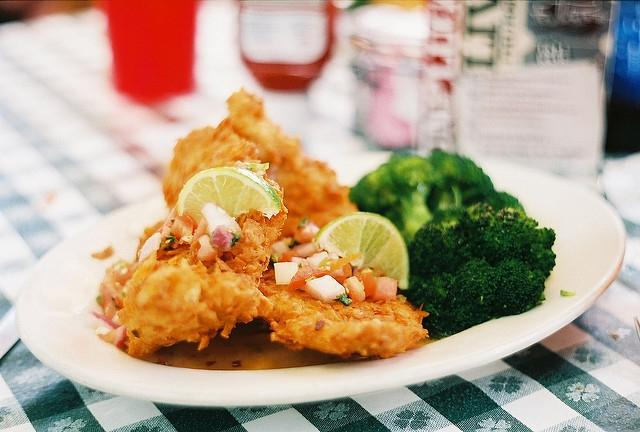broccoli: (396, 203, 556, 340), (348, 152, 446, 244), (427, 148, 494, 214), (482, 192, 525, 213)
lime: (312, 213, 410, 289), (176, 167, 281, 225)
onion: (303, 275, 346, 304), (92, 310, 126, 346), (202, 203, 241, 233), (139, 232, 162, 264), (212, 224, 234, 252), (344, 276, 366, 302), (274, 262, 298, 285), (300, 222, 320, 240), (307, 251, 328, 268), (271, 241, 290, 254)
tomato: (289, 266, 330, 290), (172, 211, 198, 240), (102, 284, 124, 318), (370, 276, 398, 302), (342, 276, 366, 302), (360, 268, 378, 297), (294, 222, 320, 242), (212, 226, 234, 248), (334, 264, 352, 284), (278, 250, 298, 262)
